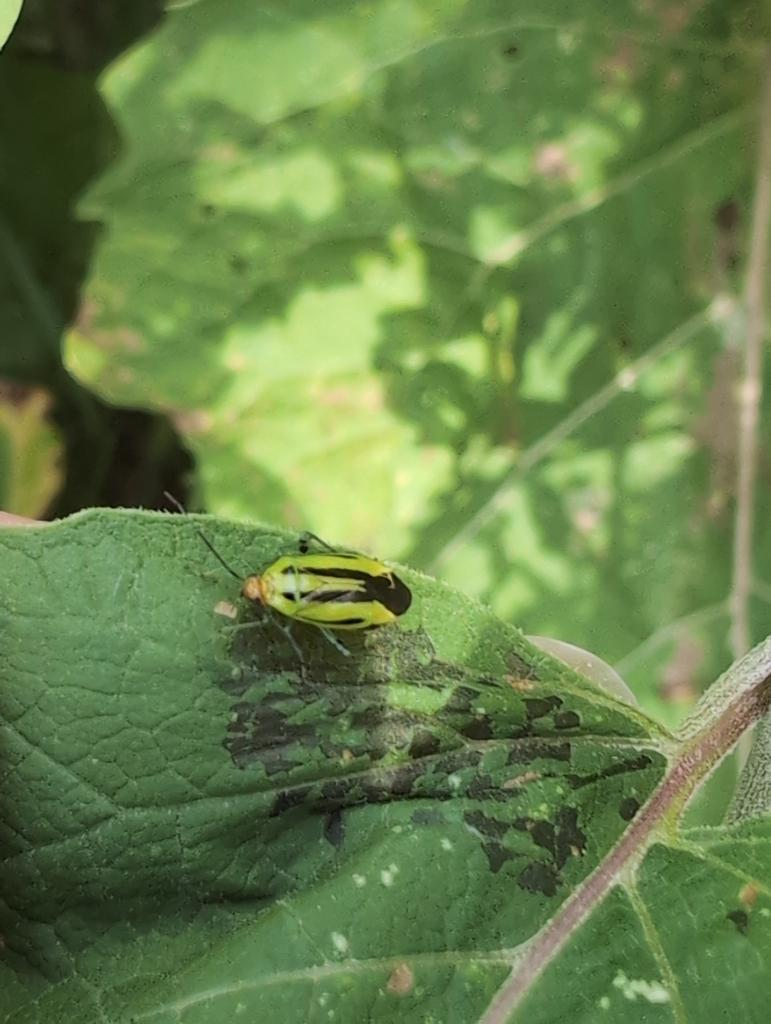plant_bugs: (139, 466, 457, 710)
